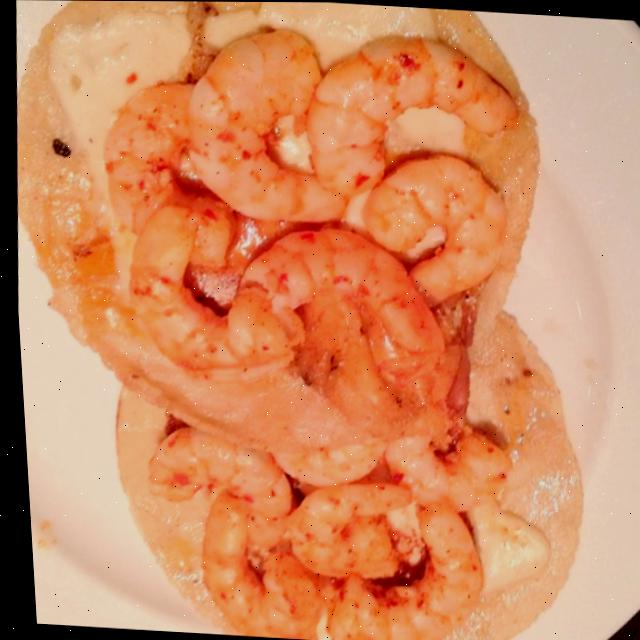面包点心: (33, 2, 599, 635)
